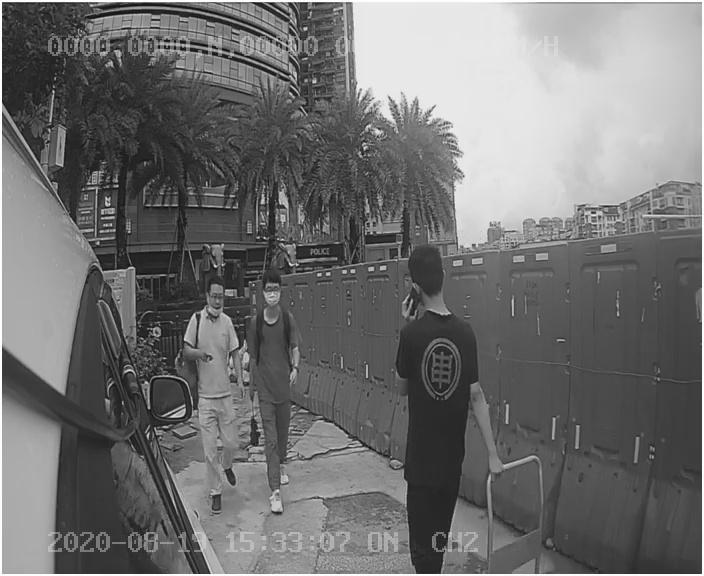person: (372, 250, 510, 531), (177, 274, 263, 522), (244, 277, 324, 512)
